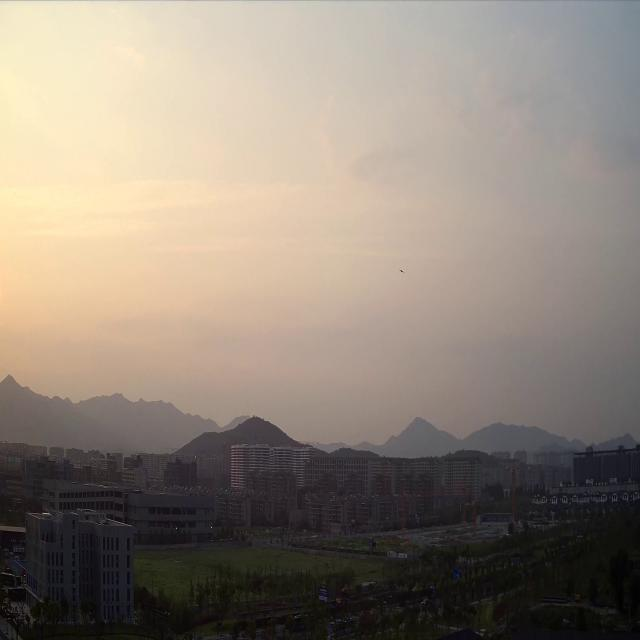UAV: (400, 268, 405, 273)
